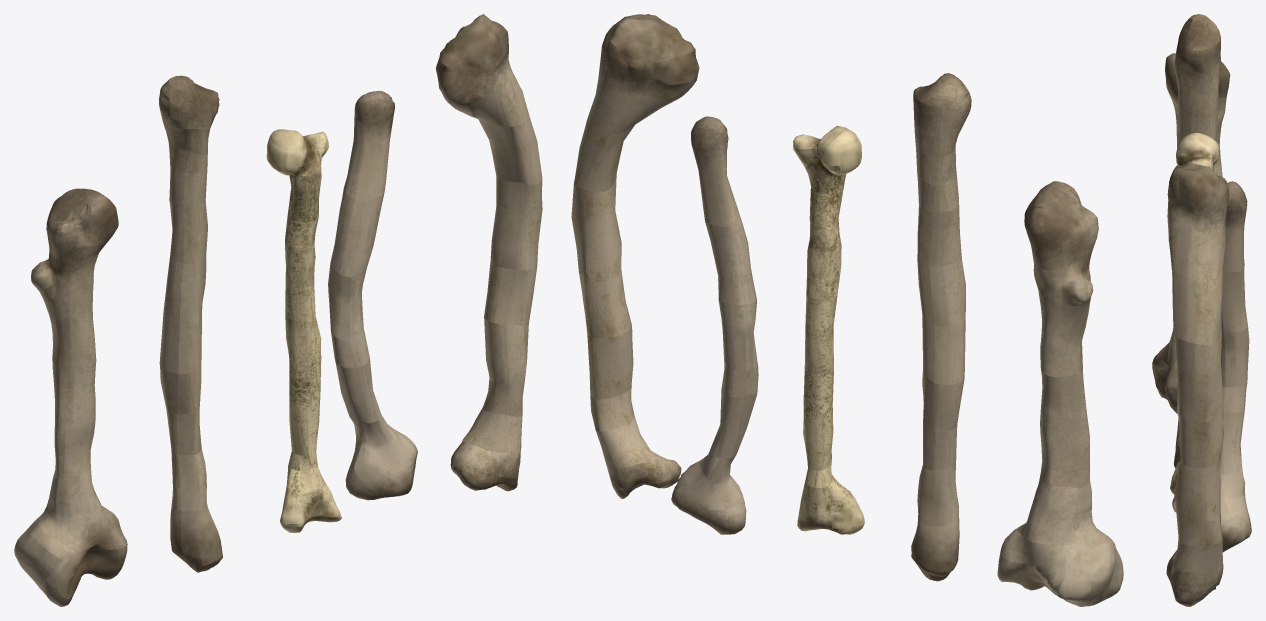
The model's file is bones.glb.
3 views of the same model, side by side, from view 1: azimuth 30°, elevation 25°; view 2: azimuth 150°, elevation 25°; view 3: azimuth 270°, elevation 25° (orthographic). The views are drawn at different scales.
Visible parts, largest first — view 1: polySurface4, polySurface3, polySurface2, polySurface5, polySurface1; view 2: polySurface4, polySurface3, polySurface2, polySurface5, polySurface1; view 3: polySurface4, polySurface5, polySurface2, polySurface3, polySurface1.
Part boxes in pixels (box(x1,y1,x2,y2)): polySurface4: box(435, 14, 542, 491); polySurface3: box(14, 188, 127, 606); polySurface2: box(159, 75, 222, 572); polySurface5: box(328, 90, 417, 500); polySurface1: box(266, 129, 341, 532); polySurface4: box(571, 14, 699, 498); polySurface3: box(997, 181, 1123, 606); polySurface2: box(911, 73, 971, 581); polySurface5: box(671, 116, 758, 534); polySurface1: box(793, 125, 864, 534); polySurface4: box(1166, 163, 1229, 606); polySurface5: box(1220, 181, 1251, 552); polySurface2: box(1173, 14, 1220, 467); polySurface3: box(1152, 53, 1230, 413); polySurface1: box(1170, 132, 1219, 512).
Bounding box in the file's own units: 68.34 × 62.14 × 12.43.
Materials: 5 (5 with a texture image).
